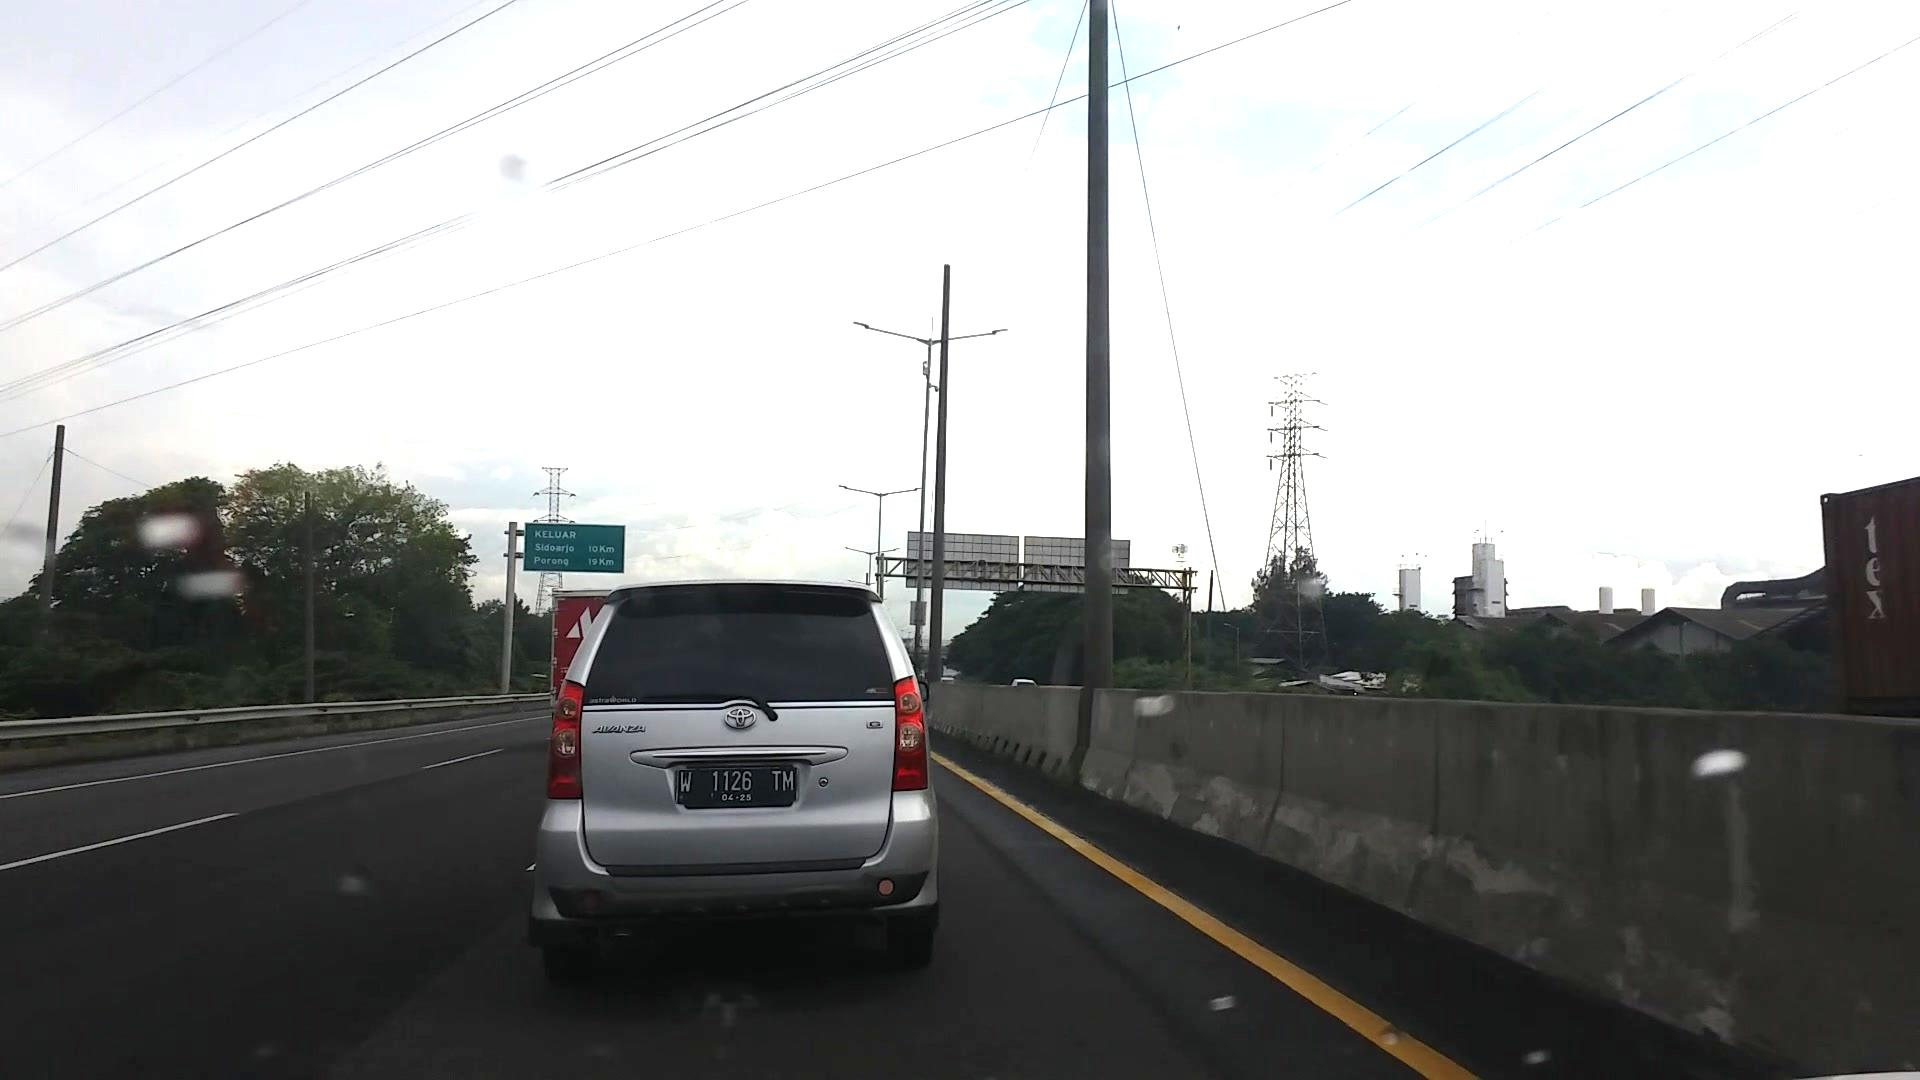plate_positive: (675, 767, 796, 808)
